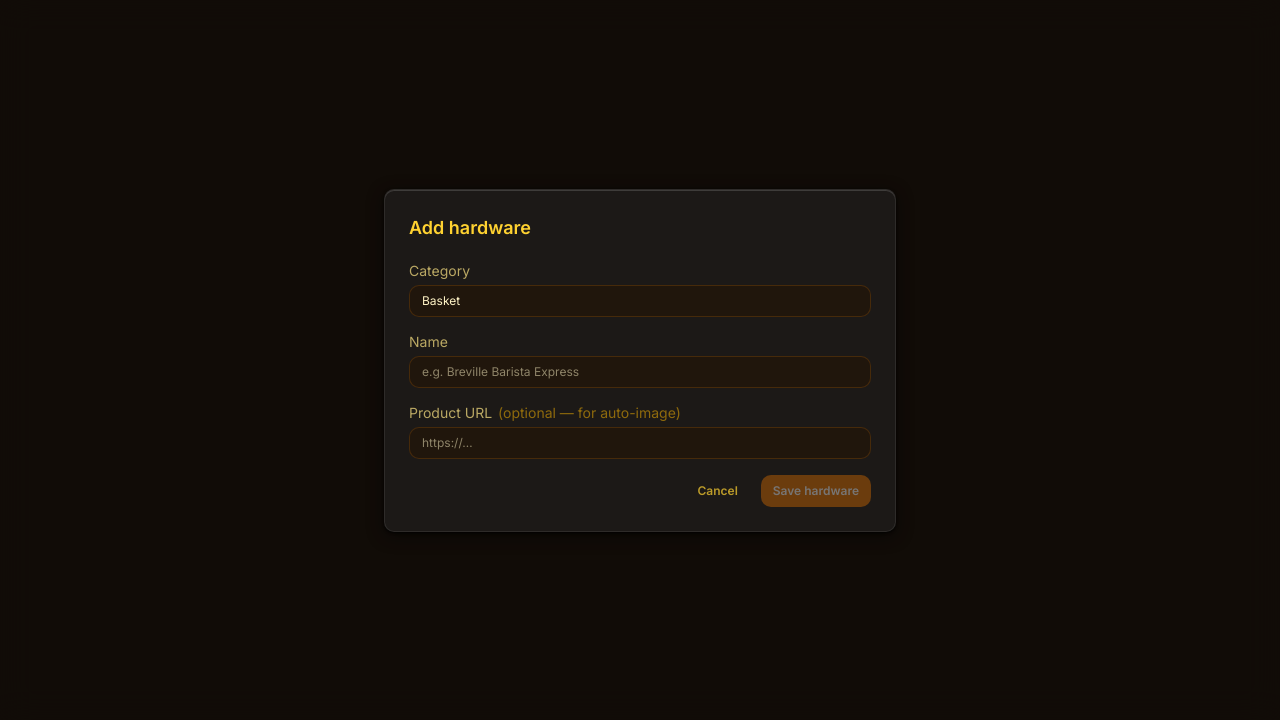
it: AddHardwareModal › shows error message on API failure without closing modal
In the field with placeholder "e.g. Breville Barista Express": (640, 372) [409, 356, 871, 388], type "IMS 20g"
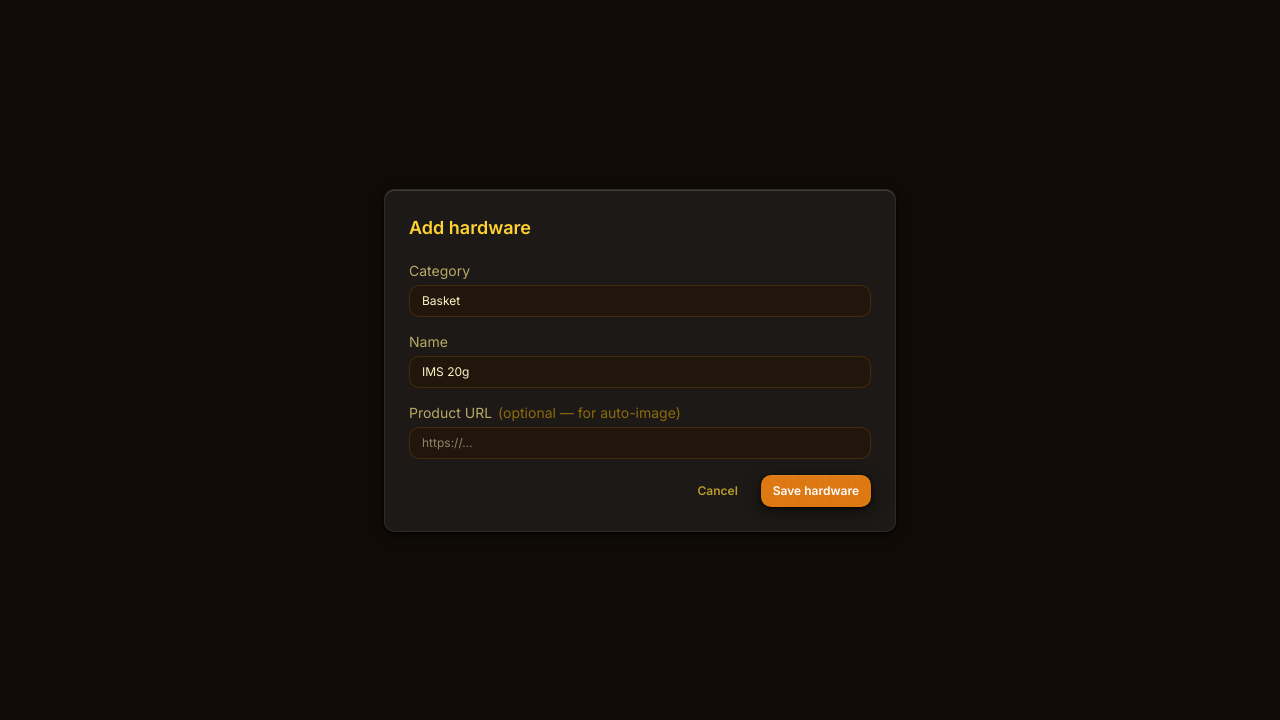
Click the button "Save hardware": (816, 490) [761, 474, 871, 506]
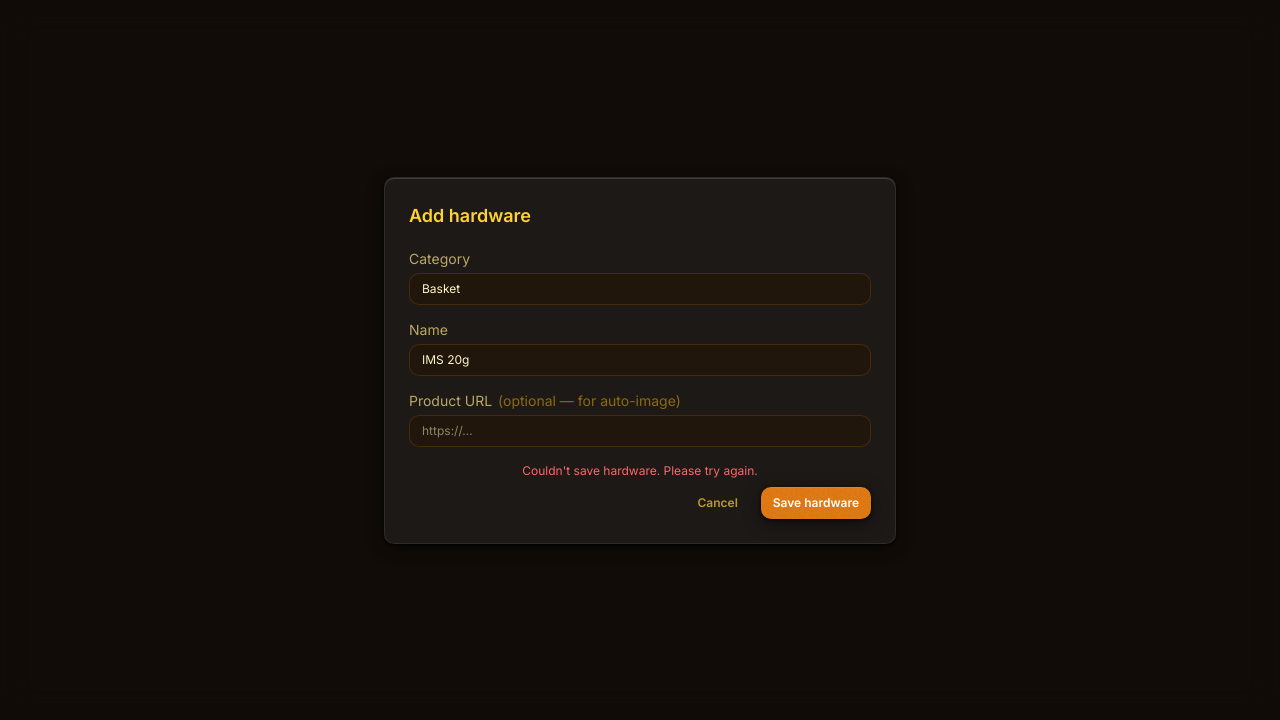
Check: the text "Couldn't save hardware. Please try again." is shown, box [522, 462, 758, 478]
